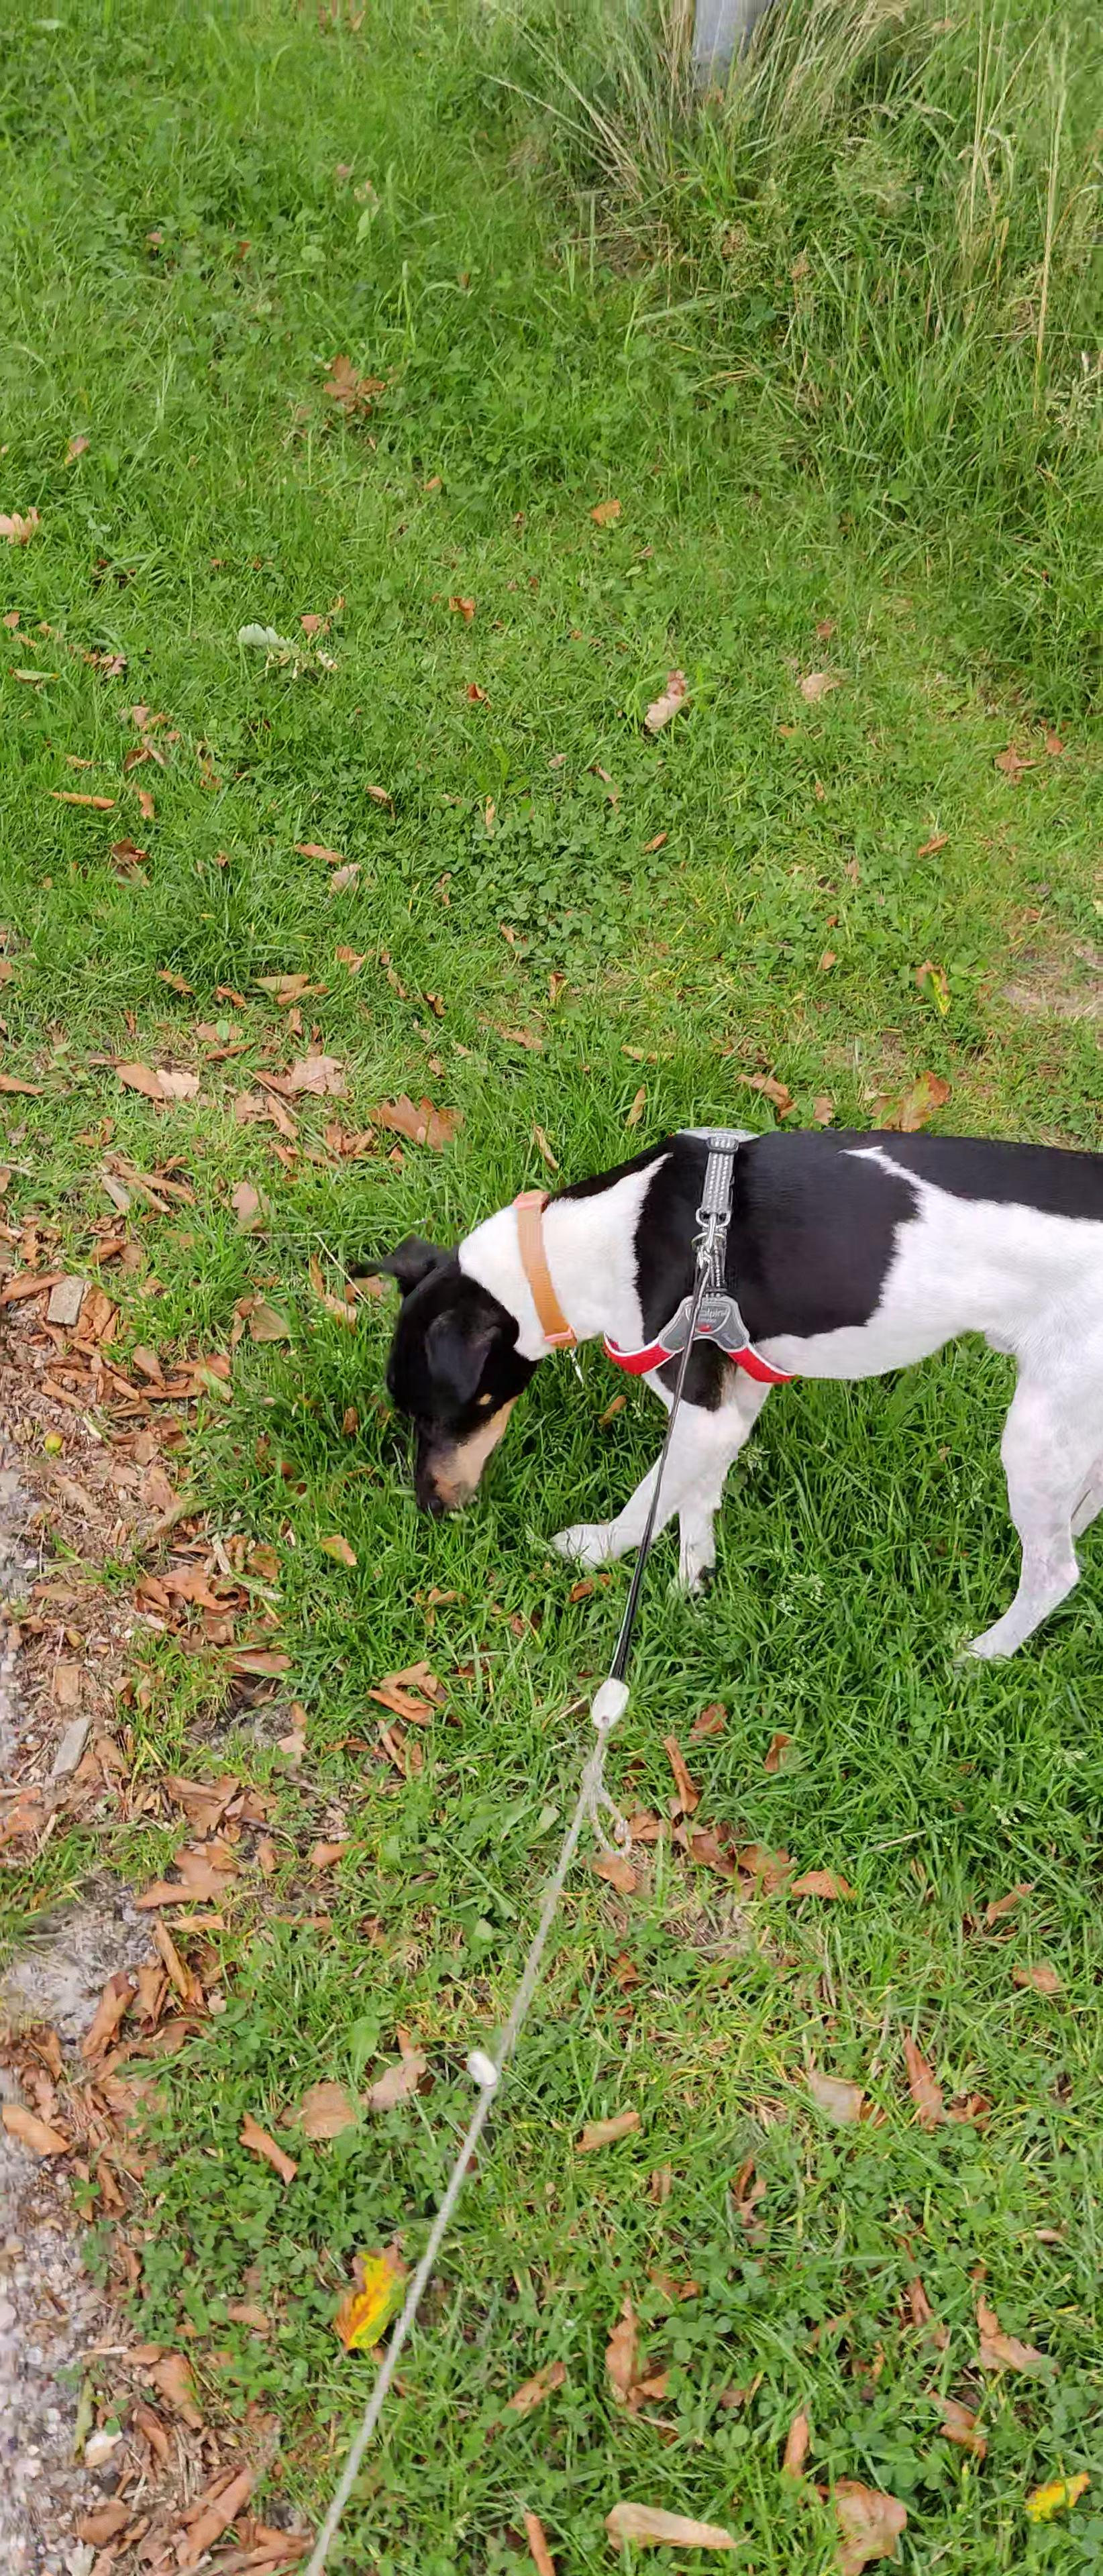Dog: (335, 1069, 1103, 1689)
